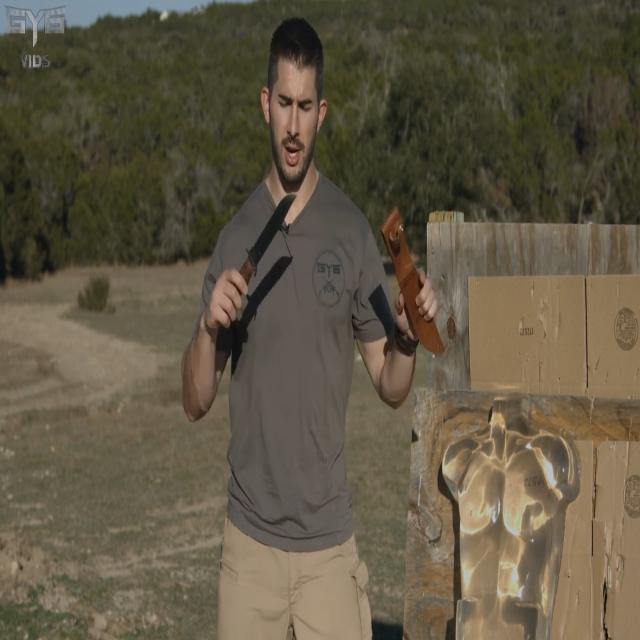knife: (242, 193, 300, 286)
